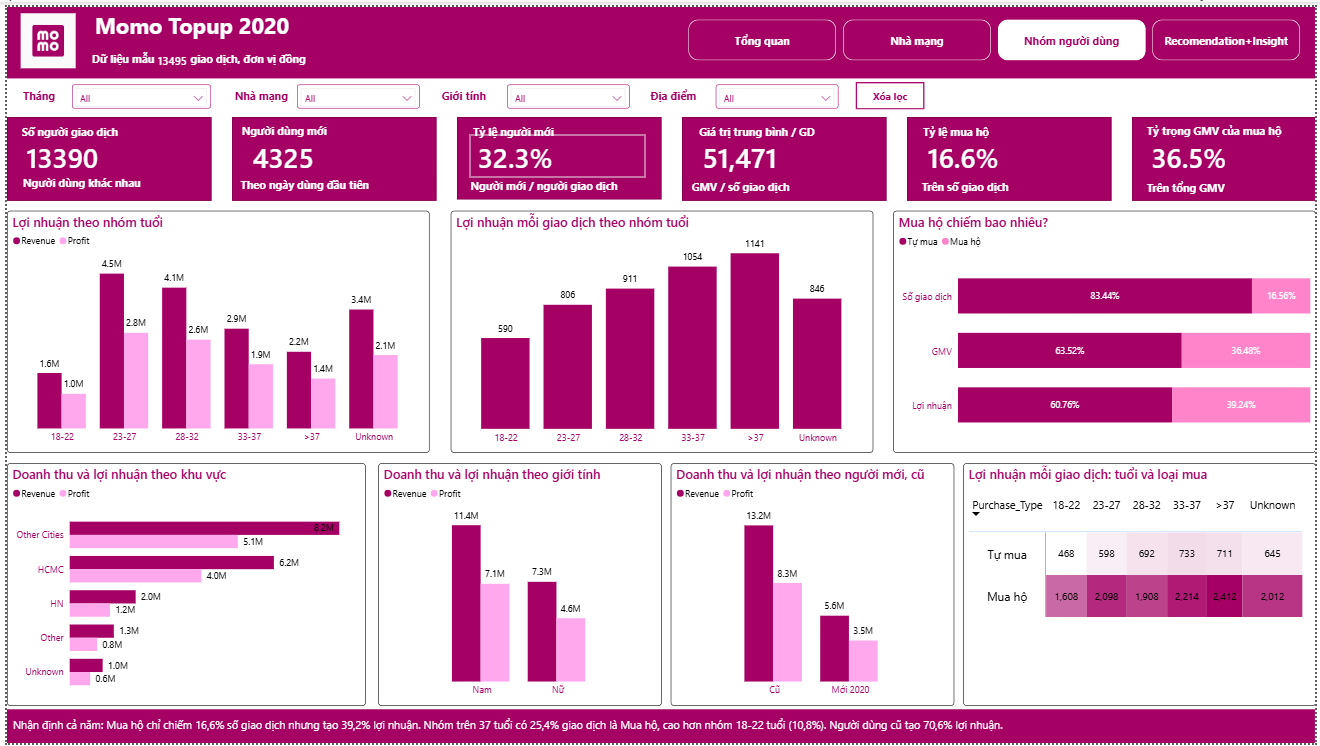

What the dashboard file says about the page in this screenshot:
{"tool":"powerbi","page":{"name":"Nhóm người dùng","canvas":[1920,1080],"ordinal":2},"visuals":[{"type":"textbox","box":[106.4,0,407.2,97.2],"z":0,"group":"g1"},{"type":"slicer","fields":{"Values":["Date.Month_Label"]},"box":[95.7,113.7,203.6,34.9],"z":0,"group":"g3"},{"type":"slicer","fields":{"Values":["Commission.Merchant_Name"]},"box":[426.3,113.7,179.8,34.9],"z":0,"group":"g2"},{"type":"slicer","fields":{"Values":["Users.Gender"]},"box":[733,113.7,179.8,34.9],"z":0,"group":"g4"},{"type":"slicer","fields":{"Values":["Users.Location"]},"box":[1039.7,113.7,179.8,34.9],"z":0,"group":"g11"},{"type":"shape","box":[0,161.4,300,123],"z":0,"group":"g5"},{"type":"shape","box":[330.2,161.4,300,122.9],"z":0,"group":"g6"},{"type":"shape","box":[660.3,161.4,300,121.1],"z":0,"group":"g7"},{"type":"shape","box":[990.5,161.4,300,122.9],"z":0,"group":"g9"},{"type":"shape","box":[1320.7,161.4,300,122.9],"z":0,"group":"g8"},{"type":"shape","box":[1650.4,161.4,270,122.9],"z":0,"group":"g10"},{"type":"clusteredColumnChart","title":"Lợi nhuận theo nhóm tuổi","fields":{"Y":["_Measures.Revenue","_Measures.Profit"],"Category":["Users.Age_Group"]},"box":[0,299,620,355],"z":0},{"type":"cardVisual","fields":{"Data":["_Measures.Total Transactions"]},"box":[192.2,48.9,108.2,55],"z":1000,"group":"g1"},{"type":"textbox","box":[18.7,113.7,77,34.9],"z":1000,"group":"g3"},{"type":"textbox","box":[325.4,113.7,100.9,34.9],"z":1000,"group":"g2"},{"type":"textbox","box":[632.1,113.7,100.9,34.9],"z":1000,"group":"g4"},{"type":"textbox","box":[938.8,113.7,100.9,34.9],"z":1000,"group":"g11"},{"type":"cardVisual","fields":{"Data":["_Measures.% New User"]},"box":[678.7,186.6,259.2,62.9],"z":1000,"group":"g7"},{"type":"cardVisual","fields":{"Data":["_Measures.Total User"]},"box":[16.5,186.9,232.9,63.8],"z":1000,"group":"g5"},{"type":"cardVisual","fields":{"Data":["_Measures.New Users"]},"box":[348.6,186.9,259.2,63.8],"z":1000,"group":"g6"},{"type":"cardVisual","fields":{"Data":["_Measures.Avg Transaction Value"]},"box":[1008.9,186.9,259.2,63.8],"z":1000,"group":"g9"},{"type":"cardVisual","fields":{"Data":["_Measures.Mua Ho Transaction Share"]},"box":[1339.1,186.9,259.2,63.8],"z":1000,"group":"g8"},{"type":"cardVisual","fields":{"Data":["_Measures.Mua Ho GMV Share"]},"box":[1666.9,186.9,233.3,63.8],"z":1000,"group":"g10"},{"type":"shape","box":[0,1030.3,1919.6,50],"z":1000},{"type":"shape","box":[0,0,1920.5,104.6],"z":2000},{"type":"textbox","box":[340.1,164.3,187.8,38.5],"z":2000,"group":"g6"},{"type":"textbox","box":[1666.2,164.3,236.6,40.4],"z":2000,"group":"g10"},{"type":"textbox","box":[1010.1,166.8,278.6,39.7],"z":2000,"group":"g9"},{"type":"textbox","box":[1339.7,167.1,214.3,38.3],"z":2000,"group":"g8"},{"type":"textbox","box":[678.7,167.7,187.8,37.7],"z":2000,"group":"g7"},{"type":"textbox","box":[16.5,167.8,168.8,38.3],"z":2000,"group":"g5"},{"type":"image","box":[0,9.2,121.1,80.7],"z":3000},{"type":"group","id":"g1","title":"Group 1","box":[106.4,0,407.2,104.6],"z":4000},{"type":"pageNavigator","box":[999.7,18.3,900.6,60.5],"z":5000},{"type":"group","id":"g2","title":"Group 3","box":[325.4,113.7,280.6,34.9],"z":6000},{"type":"group","id":"g3","title":"Group 2","box":[18.7,113.7,280.6,34.9],"z":7000},{"type":"group","id":"g4","title":"Group 3","box":[632.1,113.7,280.6,34.9],"z":8000},{"type":"group","id":"g5","title":"Group 5","box":[0,161.4,300,123],"z":9000},{"type":"group","id":"g6","title":"Group 5","box":[330.2,161.4,300,122.9],"z":10000},{"type":"group","id":"g7","title":"Group 5","box":[660.3,161.4,300,121.1],"z":11000},{"type":"group","id":"g8","title":"Group 5","box":[1320.7,161.4,300,122.9],"z":12000},{"type":"group","id":"g9","title":"Group 5","box":[990.5,161.4,300,122.9],"z":13000},{"type":"group","id":"g10","title":"Group 5","box":[1650.4,161.4,270,122.9],"z":14000},{"type":"hundredPercentStackedBarChart","title":"Mua hộ chiếm bao nhiêu?","fields":{"Series":["Transactions.Purchase_Type"],"Category":["Metric_Axis.Metric"],"Y":["_Measures.Metric Share"]},"box":[1300,299,620,355],"z":15000},{"type":"actionButton","box":[1245.5,110.1,100.9,40.4],"z":16000},{"type":"textbox","box":[3.7,1037.1,1915.9,39.1],"z":17000},{"type":"textbox","box":[338.1,244.2,212.9,37.6],"z":18000},{"type":"group","id":"g11","title":"Group 3","box":[938.8,113.7,280.6,34.9],"z":19000},{"type":"textbox","box":[18.8,242.1,212.9,37.6],"z":20000},{"type":"textbox","box":[674.1,246.3,237.9,35.5],"z":21000},{"type":"textbox","box":[999.7,248.3,212.9,37.6],"z":22000},{"type":"textbox","box":[1337.2,247.6,212.8,38.5],"z":23000},{"type":"textbox","box":[1667.3,249.5,212.8,38.5],"z":24000},{"type":"clusteredColumnChart","title":"Lợi nhuận mỗi giao dịch theo nhóm tuổi","fields":{"Category":["Users.Age_Group"],"Y":["_Measures.Profit per Transaction"]},"box":[650.3,299,620,355],"z":25000},{"type":"clusteredBarChart","title":"Doanh thu và lợi nhuận theo khu vực","fields":{"Category":["Users.Location"],"Y":["_Measures.Revenue","_Measures.Profit"]},"box":[0,669.5,526.4,355.8],"z":26000},{"type":"clusteredColumnChart","title":"Doanh thu và lợi nhuận theo giới tính","fields":{"Category":["Users.Gender"],"Y":["_Measures.Revenue","_Measures.Profit"]},"box":[544.8,669.5,416.4,355.8],"z":27000},{"type":"clusteredColumnChart","title":"Doanh thu và lợi nhuận theo người mới, cũ","fields":{"Y":["_Measures.Revenue","_Measures.Profit"],"Category":["Users.User_Type"]},"box":[974,669.5,416.4,355.8],"z":28000},{"type":"pivotTable","title":"Lợi nhuận mỗi giao dịch: tuổi và loại mua","fields":{"Columns":["Users.Age_Group"],"Values":["_Measures.Profit per Transaction"],"Rows":["Transactions.Purchase_Type"]},"box":[1403.2,669.5,517.3,355.8],"z":29000}]}

Visuals, with their boxes in screenshot pixels (x1, y1, x2, y2), scaled from the page's 1920x1080 canvas onto the 1320x746 screenshot:
textbox: (x1=73, y1=0, x2=353, y2=67)
slicer - Date.Month_Label: (x1=66, y1=79, x2=206, y2=103)
slicer - Commission.Merchant_Name: (x1=293, y1=79, x2=417, y2=103)
slicer - Users.Gender: (x1=504, y1=79, x2=628, y2=103)
slicer - Users.Location: (x1=715, y1=79, x2=838, y2=103)
shape: (x1=0, y1=111, x2=206, y2=196)
shape: (x1=227, y1=111, x2=433, y2=196)
shape: (x1=454, y1=111, x2=660, y2=195)
shape: (x1=681, y1=111, x2=887, y2=196)
shape: (x1=908, y1=111, x2=1114, y2=196)
shape: (x1=1135, y1=111, x2=1319, y2=196)
"Lợi nhuận theo nhóm tuổi" clusteredColumnChart: (x1=0, y1=207, x2=426, y2=452)
cardVisual - _Measures.Total Transactions: (x1=132, y1=34, x2=207, y2=72)
textbox: (x1=13, y1=79, x2=66, y2=103)
textbox: (x1=224, y1=79, x2=293, y2=103)
textbox: (x1=435, y1=79, x2=504, y2=103)
textbox: (x1=645, y1=79, x2=715, y2=103)
cardVisual - _Measures.% New User: (x1=467, y1=129, x2=645, y2=172)
cardVisual - _Measures.Total User: (x1=11, y1=129, x2=171, y2=173)
cardVisual - _Measures.New Users: (x1=240, y1=129, x2=418, y2=173)
cardVisual - _Measures.Avg Transaction Value: (x1=694, y1=129, x2=872, y2=173)
cardVisual - _Measures.Mua Ho Transaction Share: (x1=921, y1=129, x2=1099, y2=173)
cardVisual - _Measures.Mua Ho GMV Share: (x1=1146, y1=129, x2=1306, y2=173)
shape: (x1=0, y1=712, x2=1319, y2=745)
shape: (x1=0, y1=0, x2=1319, y2=72)
textbox: (x1=234, y1=113, x2=363, y2=140)
textbox: (x1=1146, y1=113, x2=1308, y2=141)
textbox: (x1=694, y1=115, x2=886, y2=143)
textbox: (x1=921, y1=115, x2=1068, y2=142)
textbox: (x1=467, y1=116, x2=596, y2=142)
textbox: (x1=11, y1=116, x2=127, y2=142)
image: (x1=0, y1=6, x2=83, y2=62)
"Group 1" group: (x1=73, y1=0, x2=353, y2=72)
pageNavigator: (x1=687, y1=13, x2=1306, y2=54)
"Group 3" group: (x1=224, y1=79, x2=417, y2=103)
"Group 2" group: (x1=13, y1=79, x2=206, y2=103)
"Group 3" group: (x1=435, y1=79, x2=627, y2=103)
"Group 5" group: (x1=0, y1=111, x2=206, y2=196)
"Group 5" group: (x1=227, y1=111, x2=433, y2=196)
"Group 5" group: (x1=454, y1=111, x2=660, y2=195)
"Group 5" group: (x1=908, y1=111, x2=1114, y2=196)
"Group 5" group: (x1=681, y1=111, x2=887, y2=196)
"Group 5" group: (x1=1135, y1=111, x2=1319, y2=196)
"Mua hộ chiếm bao nhiêu?" hundredPercentStackedBarChart: (x1=894, y1=207, x2=1319, y2=452)
actionButton: (x1=856, y1=76, x2=926, y2=104)
textbox: (x1=3, y1=716, x2=1319, y2=743)
textbox: (x1=232, y1=169, x2=379, y2=195)
"Group 3" group: (x1=645, y1=79, x2=838, y2=103)
textbox: (x1=13, y1=167, x2=159, y2=193)
textbox: (x1=463, y1=170, x2=627, y2=195)
textbox: (x1=687, y1=172, x2=834, y2=197)
textbox: (x1=919, y1=171, x2=1066, y2=198)
textbox: (x1=1146, y1=172, x2=1293, y2=199)
"Lợi nhuận mỗi giao dịch theo nhóm tuổi" clusteredColumnChart: (x1=447, y1=207, x2=873, y2=452)
"Doanh thu và lợi nhuận theo khu vực" clusteredBarChart: (x1=0, y1=462, x2=362, y2=708)
"Doanh thu và lợi nhuận theo giới tính" clusteredColumnChart: (x1=375, y1=462, x2=661, y2=708)
"Doanh thu và lợi nhuận theo người mới, cũ" clusteredColumnChart: (x1=670, y1=462, x2=956, y2=708)
"Lợi nhuận mỗi giao dịch: tuổi và loại mua" pivotTable: (x1=965, y1=462, x2=1319, y2=708)
